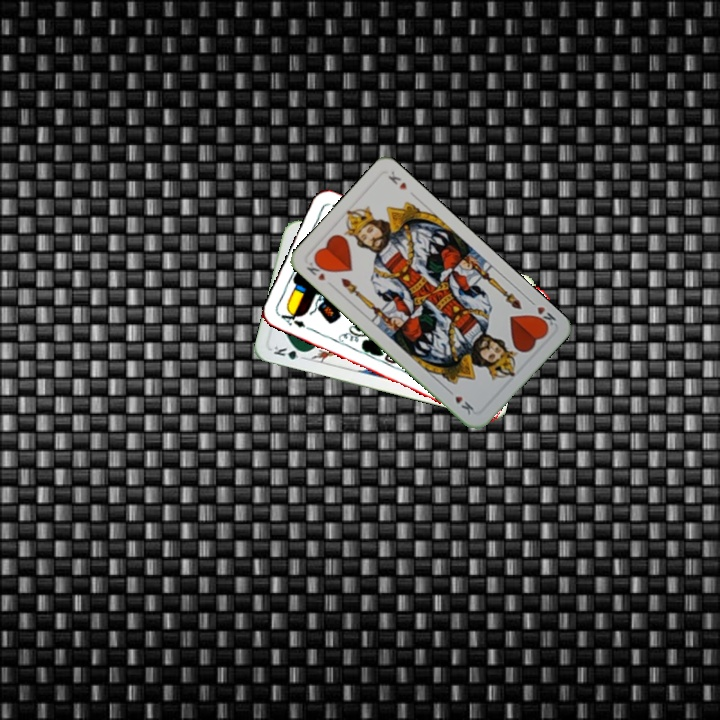EA: (276, 306, 314, 333)
GK: (269, 341, 309, 362)
HK: (525, 295, 558, 332), (302, 256, 330, 283)
